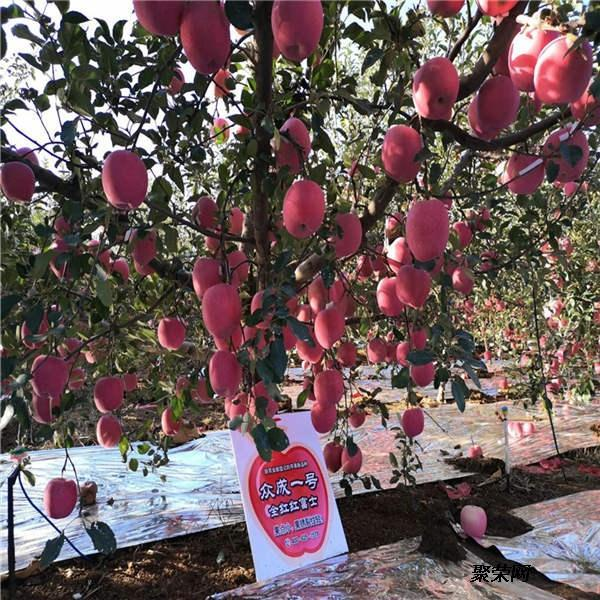apple: (529, 30, 591, 105), (178, 3, 231, 74), (101, 147, 149, 213), (406, 198, 452, 262), (283, 178, 325, 239), (200, 283, 243, 339), (29, 354, 69, 399), (39, 473, 78, 518), (395, 266, 431, 311), (312, 304, 345, 350), (209, 351, 243, 394), (377, 275, 407, 315), (92, 373, 122, 413), (3, 163, 32, 201), (458, 504, 488, 539), (157, 316, 184, 350)
